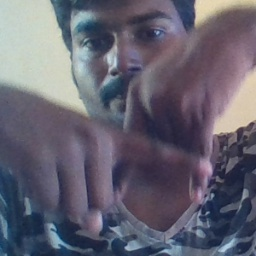H: (90, 80, 223, 213)
